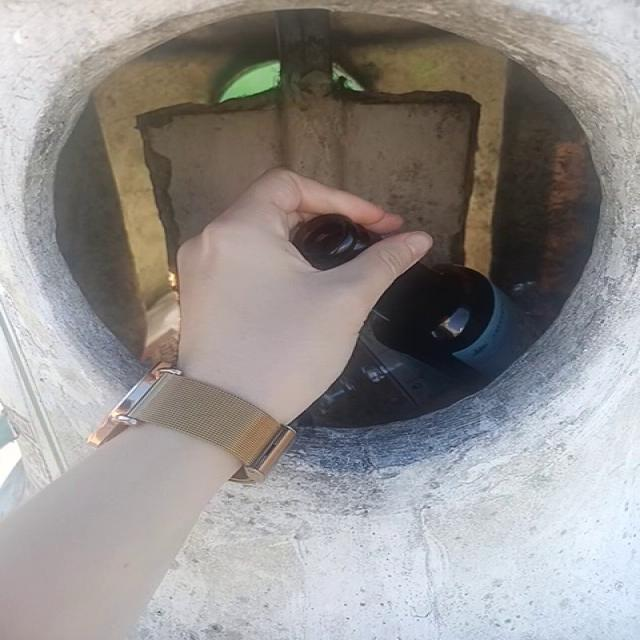glass: (369, 263, 513, 378), (292, 214, 381, 270)
